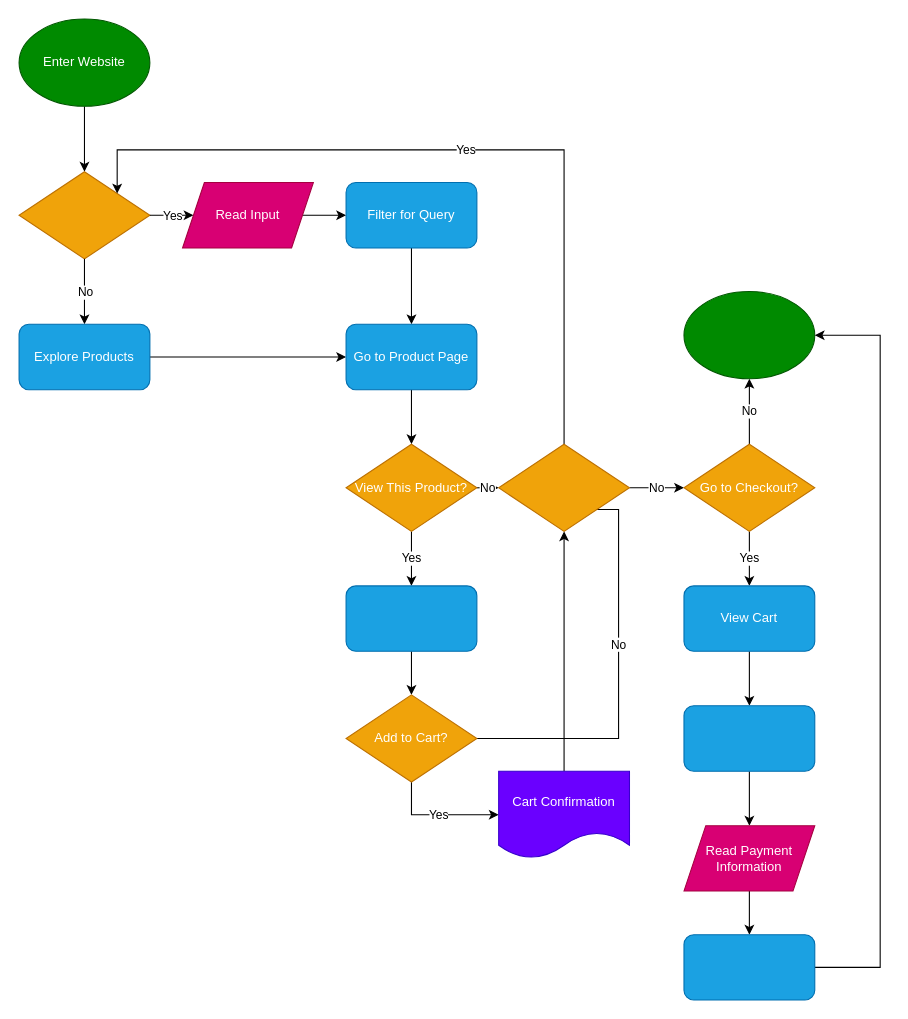
This 908x1019 diagram has some shape labels left out. The shapes that lost their labels are listed below. From the top down, each one's centre as x and y in pixels, then its label:
(x=84, y=215): Search
(x=749, y=334): Exit Website
(x=563, y=487): Continue Shopping?
(x=411, y=618): Particular Product Page Opens
(x=749, y=738): View Payment
(x=749, y=967): Order Confirmation and E-mail
